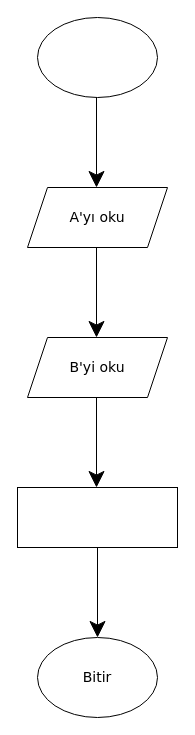
This 195x735 diagram has some shape labels left out. Each missing label, with the centre of its shape:
"A+B'yi yaz" goes at pixel 97 517.
"Başla" goes at pixel 97 57.
